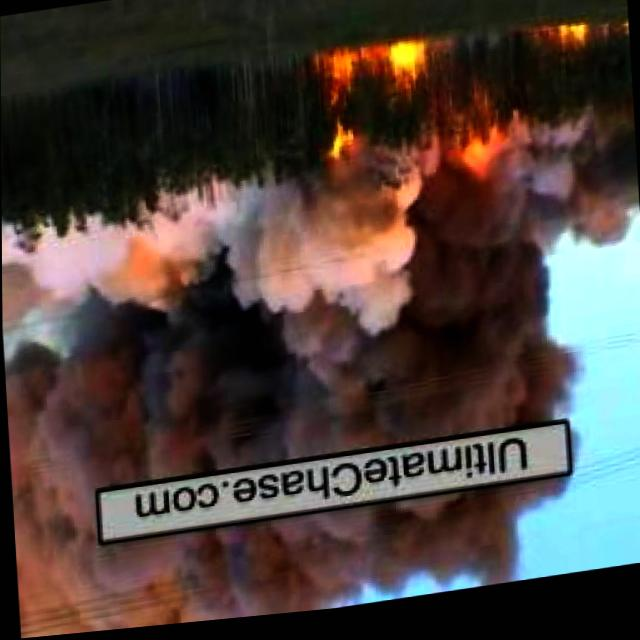helmet: (314, 44, 424, 174), (444, 135, 509, 207), (551, 32, 594, 68)
no_helmet: (1, 166, 584, 505), (15, 487, 578, 639)
